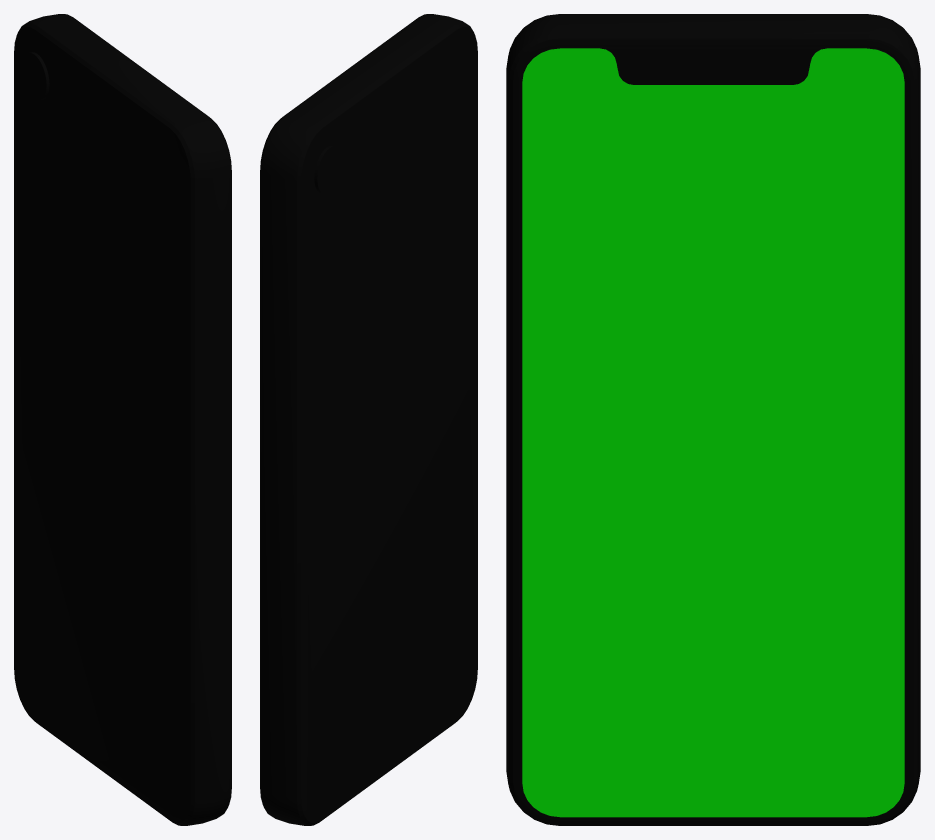
File: phone.glb
The picture shows the model from 3 angles, left to right: view 1: azimuth 30°, elevation 25°; view 2: azimuth 150°, elevation 25°; view 3: azimuth 270°, elevation 25°; orthographic projection. The views are drawn at different scales.
Parts seen in each view (by area): view 1: Cube; view 2: Cube; view 3: Cube.
Boxes of the visible parts, left/top/right/bottom form: Cube: left=14, top=14, right=231, bottom=825; Cube: left=260, top=14, right=477, bottom=825; Cube: left=506, top=14, right=920, bottom=825.
Size of the model in its own units: 0.0114 by 0.1603 by 0.0756.
